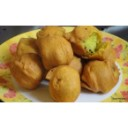bonda: (71, 24, 114, 59), (8, 56, 44, 89), (48, 67, 80, 102), (81, 61, 118, 90), (39, 37, 72, 64)
